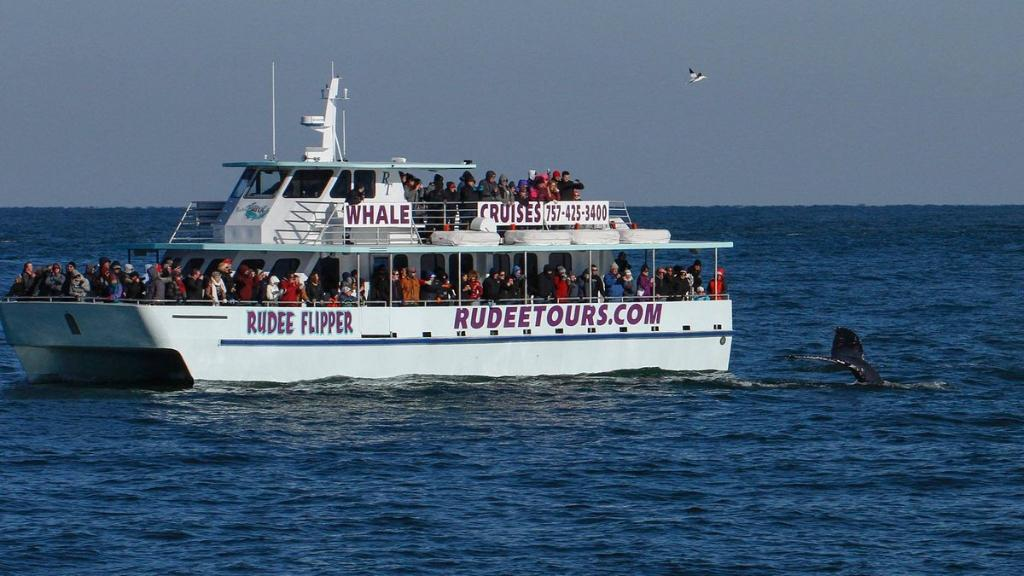PassengerShip: (0, 63, 750, 417)
